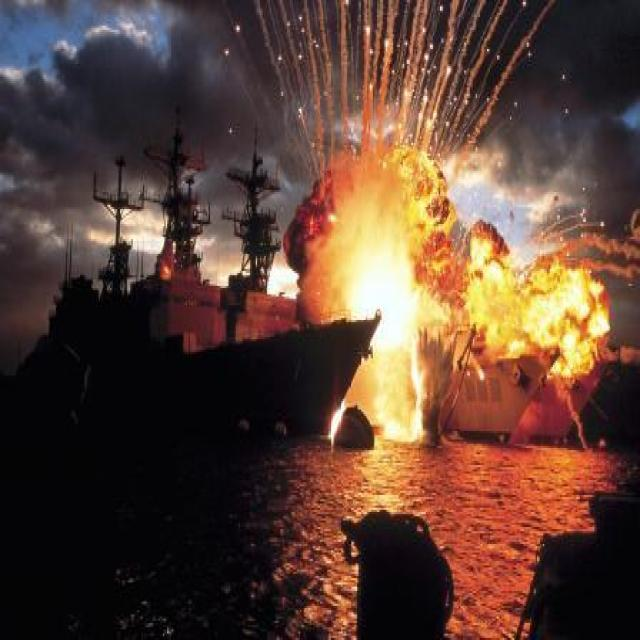fire: (278, 4, 608, 466)
